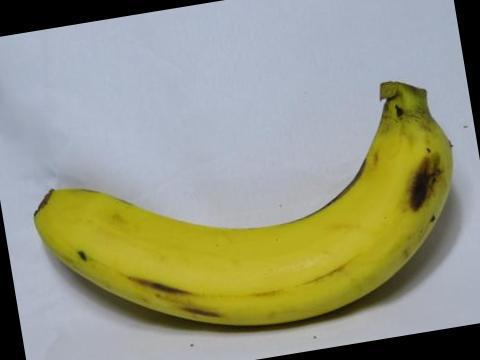freshripe: (23, 52, 456, 353)
